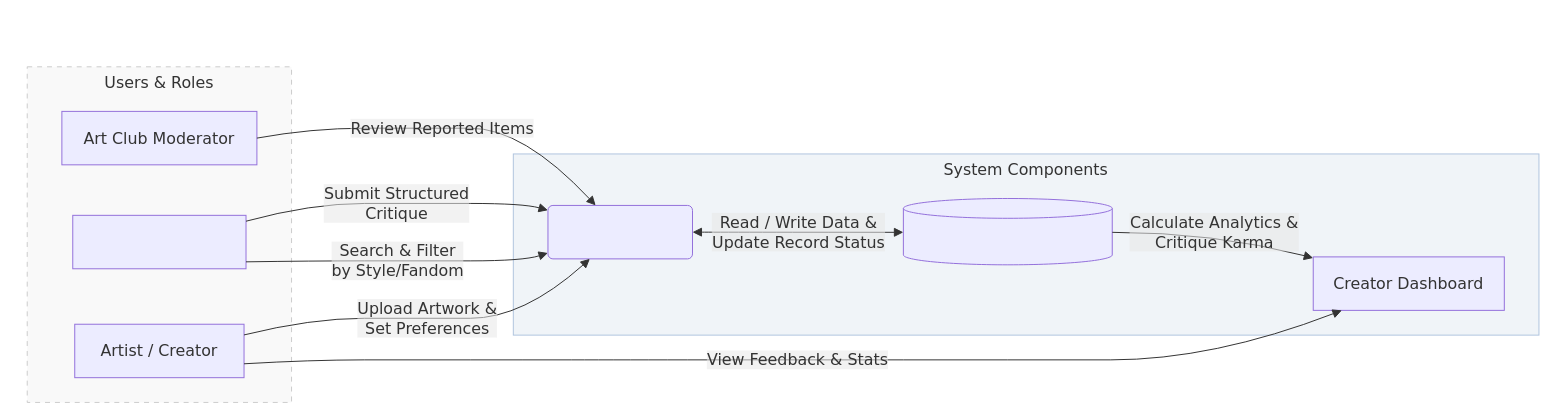
Some shapes in this 1556 by 420 pixel diagram are drawn without their labels. Here are the shapes that lost their labels. From the top down, the centre of each, then its label:
point (159, 241): Peer / Reviewer
point (620, 231): Web Application
point (1007, 231): Database: Firestore / Local
